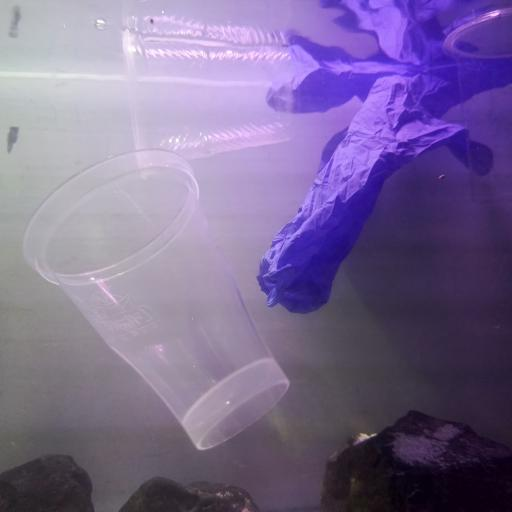glove: (255, 0, 512, 316)
plastic_cup: (20, 147, 291, 453), (122, 26, 300, 180), (445, 6, 512, 210)
